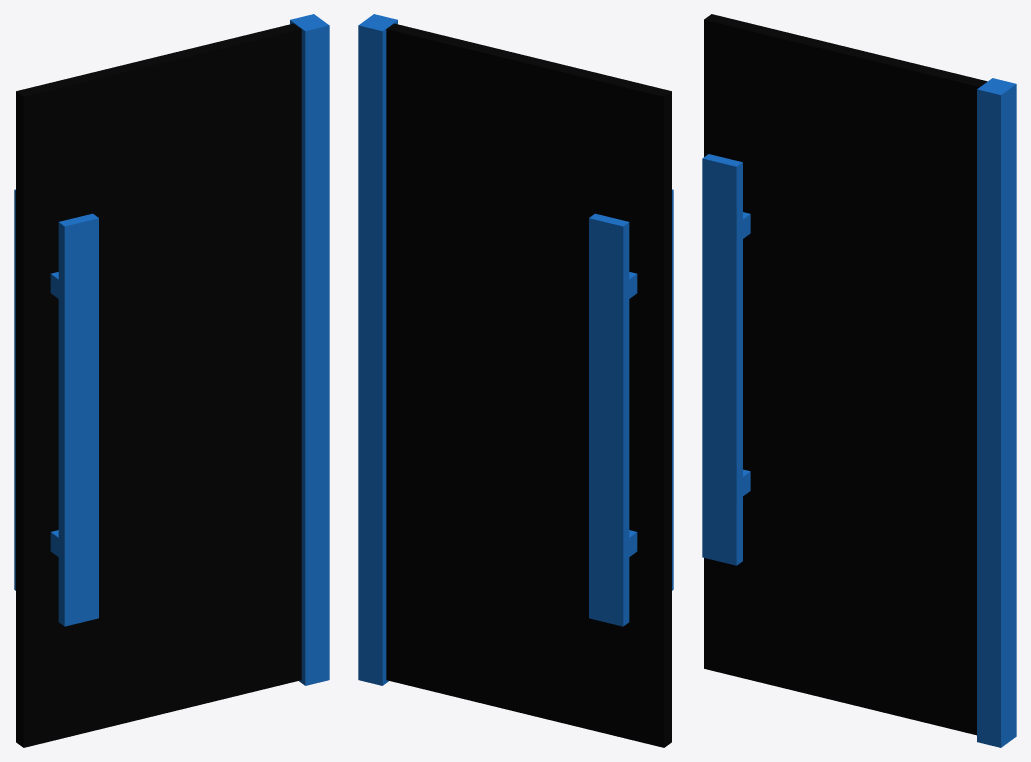
File: SM_door2.fbx
The picture shows the model from 3 angles, left to right: view 1: azimuth 30°, elevation 25°; view 2: azimuth 150°, elevation 25°; view 3: azimuth 330°, elevation 25°; orthographic projection.
Parts seen in each view (by area): view 1: door2; view 2: door2; view 3: door2.
Part boxes in pixels (x1,y1,x2,y2): door2: (14, 14, 329, 747); door2: (358, 14, 673, 747); door2: (702, 14, 1016, 747).
Bounding box in the file's own units: 99.9 × 207 × 28.83.
